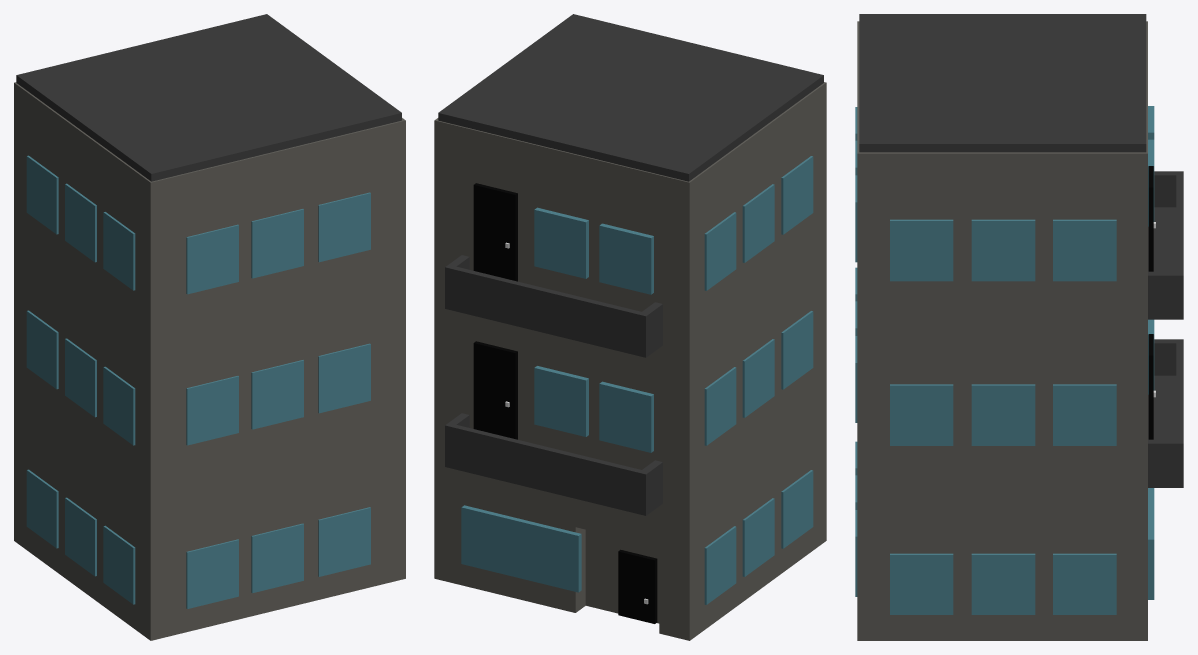
File: building1.glb
3 views of the same model, side by side, from view 1: azimuth 30°, elevation 25°; view 2: azimuth 150°, elevation 25°; view 3: azimuth 270°, elevation 25° (orthographic). The views are drawn at different scales.
Visible parts, largest first — view 1: Cube, Cube.041, Cube.029, Cube.036, Cube.037, Cube.031, Cube.033, Cube.034, Cube.035, Cube.030, Cube.032, Cube.014 (+8 smaller); view 2: Cube, Cube.041, Cube.002, Cube.008, Cube.010, Cube.003, Cube.007, Cube.006, Cube.001, Cube.004, Cube.009, Cube.005 (+9 smaller); view 3: Cube, Cube.041, Cube.008, Cube.002, Cube.027, Cube.028, Cube.024, Cube.026, Cube.021, Cube.022, Cube.023, Cube.025 (+4 smaller).
Boxes of the visible parts, x1,y1,x2,y2 form: Cube: (14,82,405,640); Cube.041: (16,14,401,181); Cube.029: (186,224,238,294); Cube.036: (251,523,303,593); Cube.037: (318,507,370,576); Cube.031: (318,192,370,262); Cube.033: (251,360,303,429); Cube.034: (186,376,238,445); Cube.035: (186,539,238,608); Cube.030: (251,209,303,278); Cube.032: (318,343,370,413); Cube.014: (103,366,135,445); Cube: (434,82,826,640); Cube.041: (438,14,823,181); Cube.002: (445,413,662,515); Cube.008: (445,255,662,357); Cube.010: (461,505,581,592); Cube.003: (473,341,517,439); Cube.007: (473,183,517,281); Cube.006: (599,223,653,294); Cube.001: (534,366,588,436); Cube.004: (599,381,653,452); Cube.009: (534,207,588,278); Cube.005: (618,549,657,623); Cube: (857,21,1147,640); Cube.041: (859,14,1146,152); Cube.008: (1148,171,1183,319); Cube.002: (1148,339,1183,487); Cube.027: (971,219,1035,281); Cube.028: (1053,219,1116,281); Cube.024: (971,384,1035,445); Cube.026: (890,219,953,281); Cube.021: (971,553,1035,614); Cube.022: (1053,553,1116,614); Cube.023: (1053,384,1116,445); Cube.025: (890,384,953,445).
Bounding box in the file's own units: 3.6 × 6.17 × 3.71.
